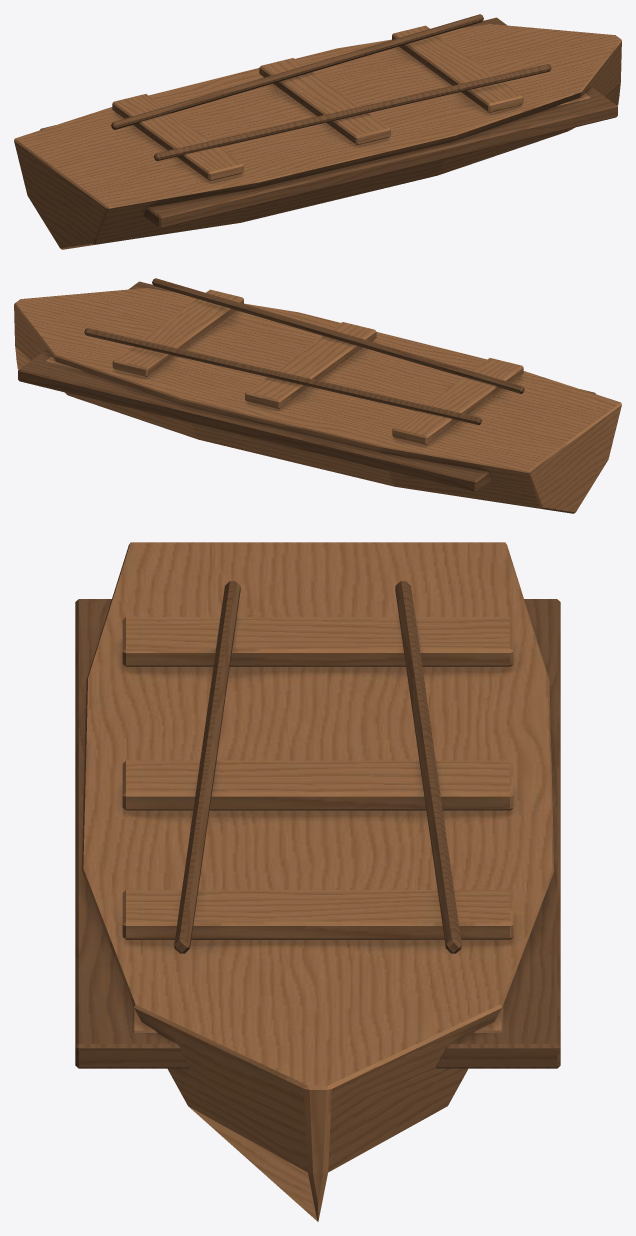
Rendered from eka_tex.glb.
3 views of the same model, one above another, from view 1: azimuth 30°, elevation 25°; view 2: azimuth 150°, elevation 25°; view 3: azimuth 270°, elevation 25° (orthographic). The views are drawn at different scales.
Visible parts, largest first — view 1: eka; view 2: eka; view 3: eka.
Boxes of the visible parts, box(x1,y1,x2,y2) form: eka: box(14, 14, 621, 249); eka: box(14, 278, 621, 513); eka: box(75, 542, 560, 1221).
Size of the model in its own units: 3.8 by 0.719 by 1.43.
Materials: 2 (2 with a texture image).
